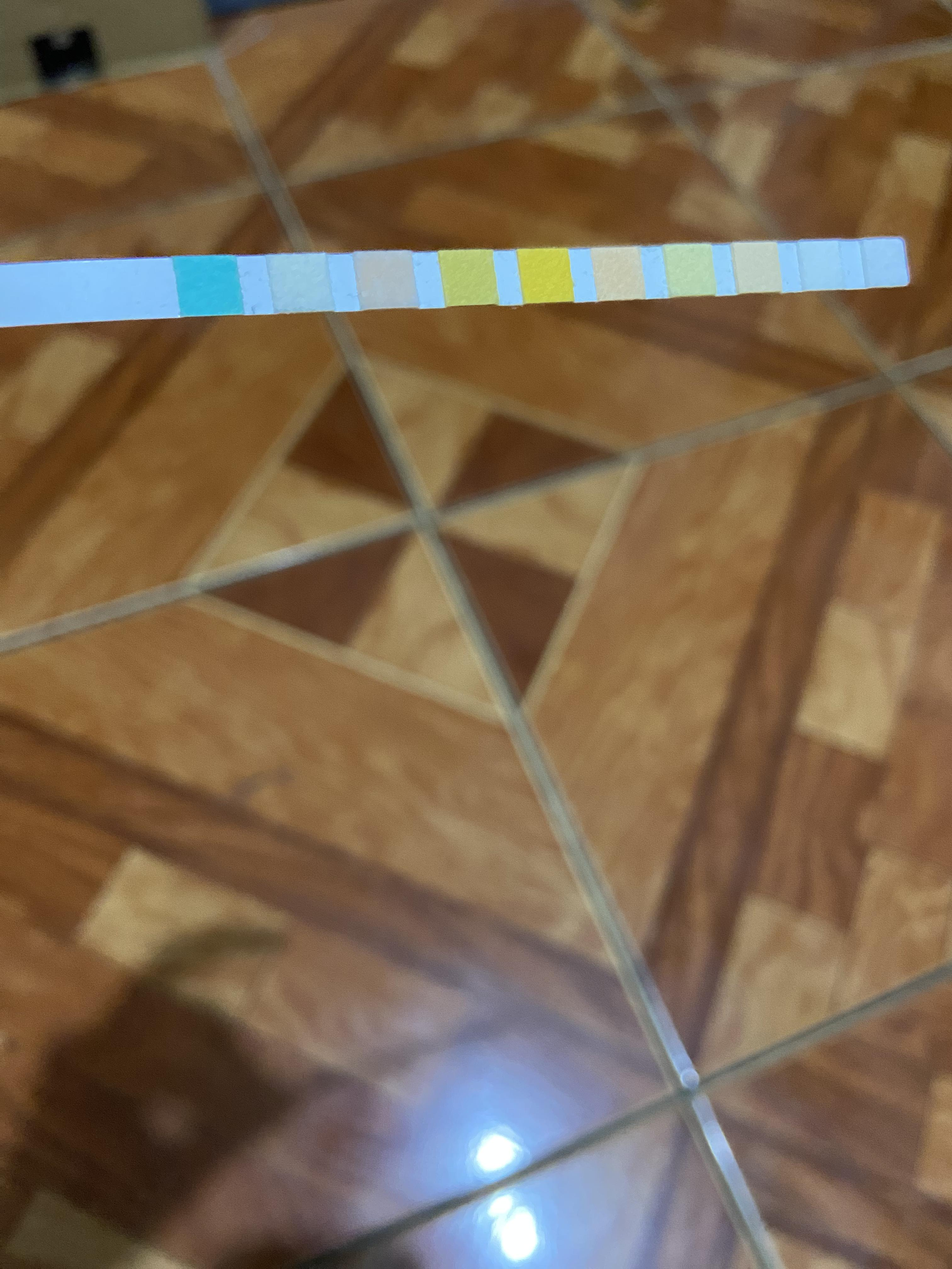Bilirubin: (274, 255, 328, 313)
Blood: (525, 251, 569, 302)
Glucose: (182, 257, 237, 316)
Ketone: (362, 253, 411, 308)
Leukocytes: (866, 240, 902, 287)
Nitrite: (804, 242, 841, 290)
Protein: (670, 244, 712, 295)
SpGravity: (446, 251, 495, 305)
Urobilinogen: (738, 244, 777, 292)
pH: (598, 249, 640, 299)
strip: (1, 238, 909, 327)
